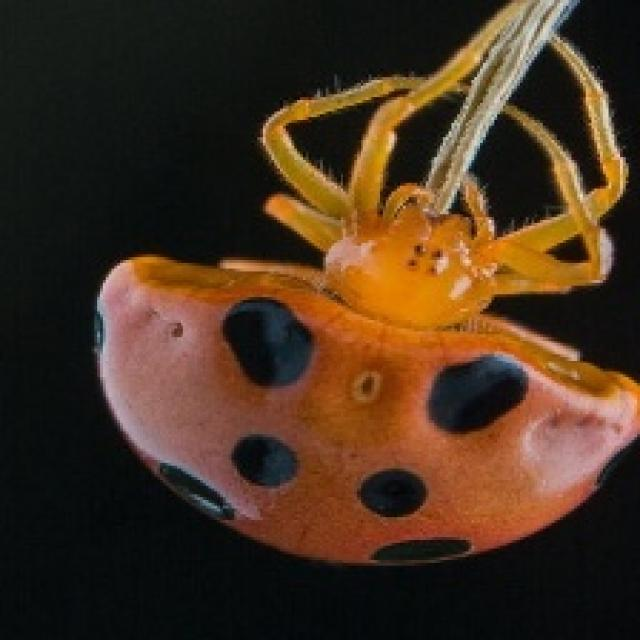Non venomous spider: (36, 29, 640, 602)
